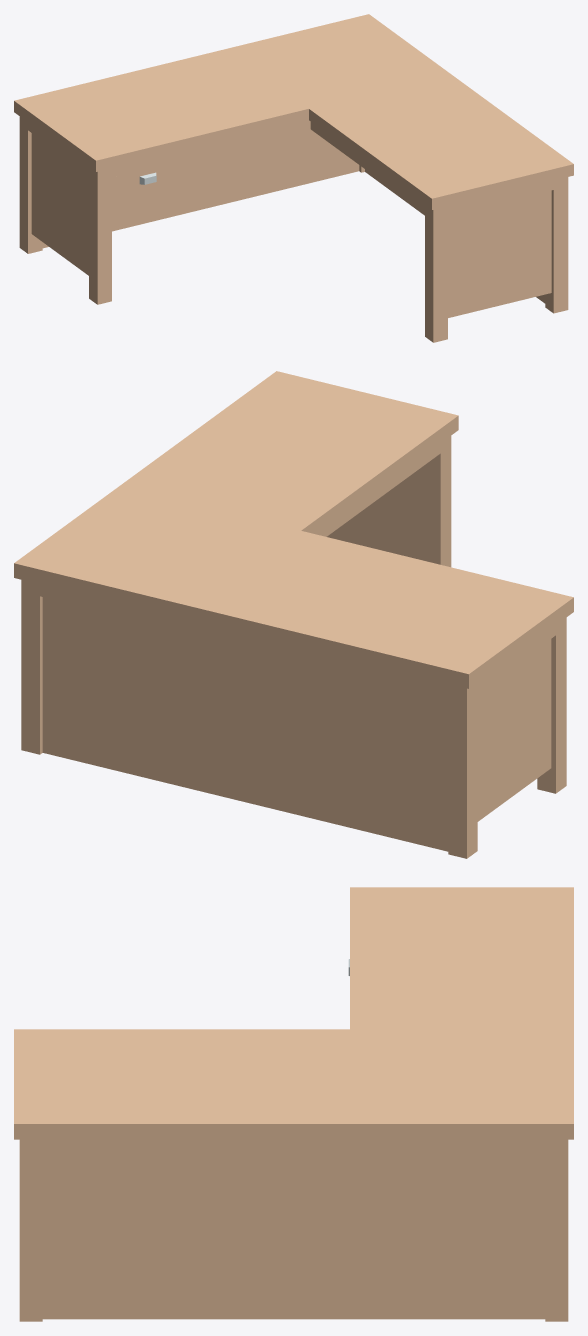
The model's file is deskCorner.glb.
3 renders of one model, top to bottom at view 1: azimuth 30°, elevation 25°; view 2: azimuth 150°, elevation 25°; view 3: azimuth 270°, elevation 25°, orthographic. The views are drawn at different scales.
Visible parts, largest first — view 1: Mesh deskCorner, drawer; view 2: Mesh deskCorner; view 3: Mesh deskCorner.
Part boxes in pixels (<box>): Mesh deskCorner: <box>14,14,573,342</box>; drawer: <box>112,160,183,196</box>; Mesh deskCorner: <box>14,371,573,858</box>; Mesh deskCorner: <box>14,887,573,1321</box>.
Size of the model in its own units: 0.9745 by 0.3844 by 0.9745.
